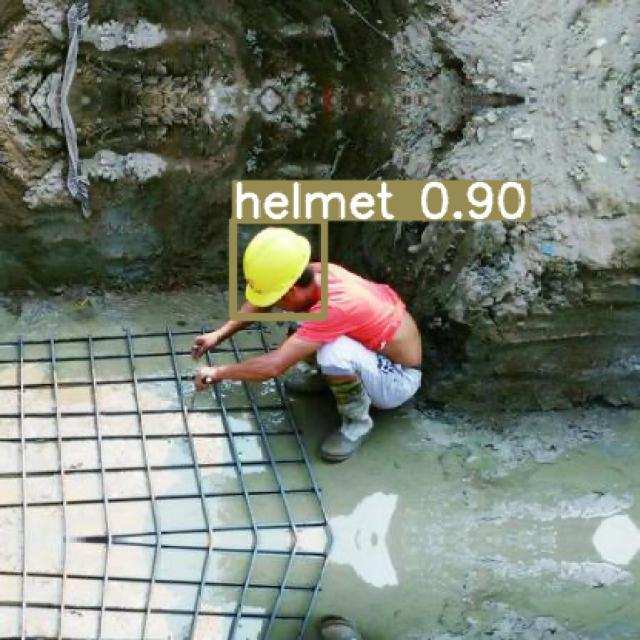Helmet: (241, 225, 311, 308)
